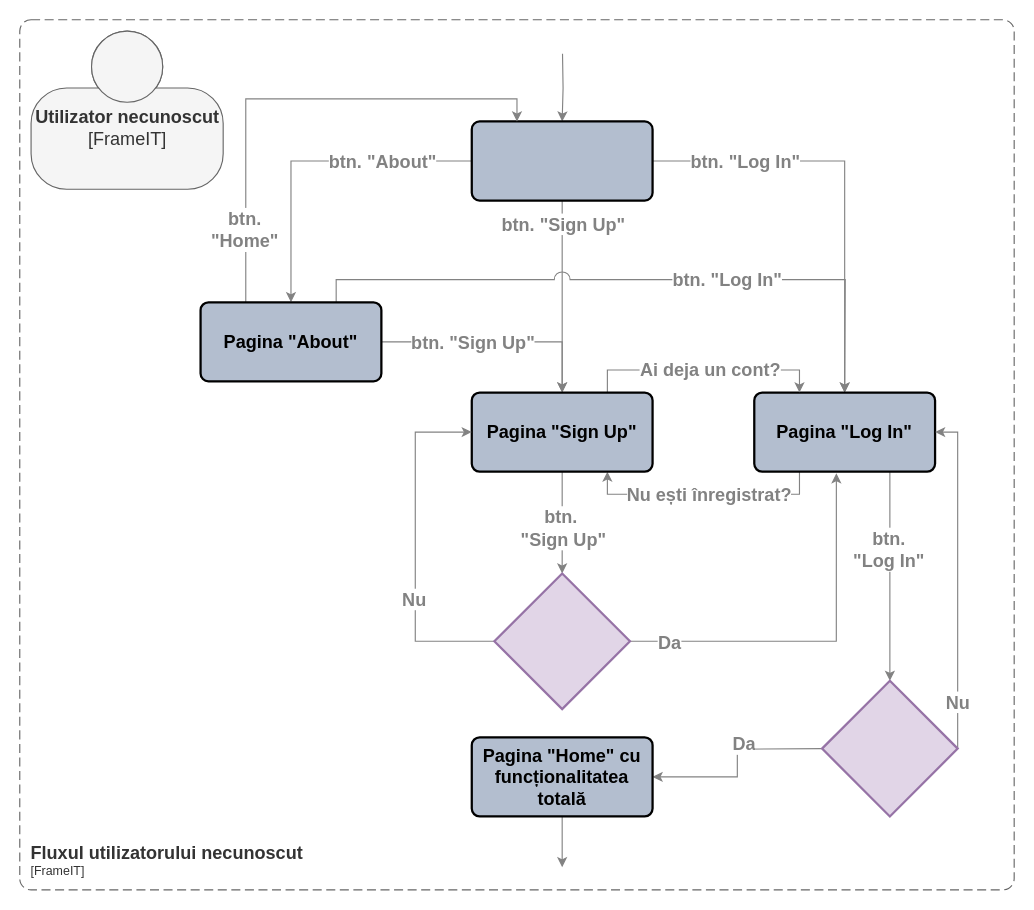
This 1034x910 diagram has some shape labels left out. The centre of each missing label's shape, as x and y in pixels:
Autentificare cu succes?: (x=889, y=748)
Pagina "Home" cu funcționalitatea limitată: (x=561, y=160)
Înregistrare cu succes?: (x=562, y=641)
